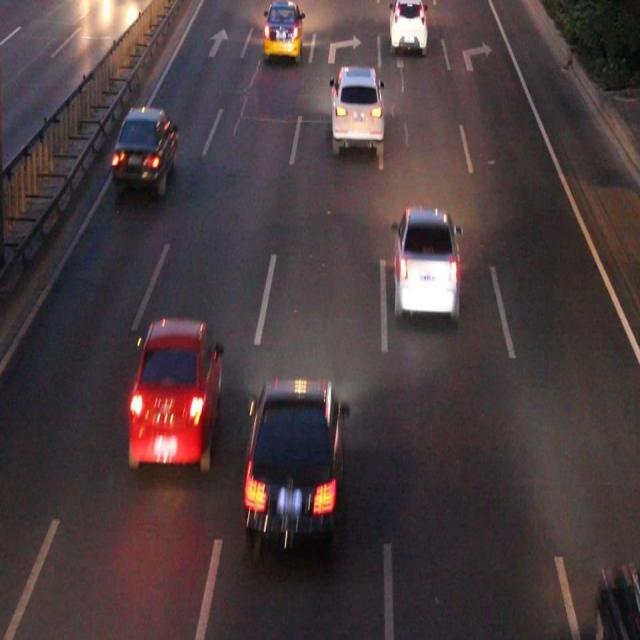car: (248, 382, 342, 551), (131, 321, 220, 462), (396, 208, 456, 316), (114, 109, 179, 183), (331, 68, 382, 150), (597, 564, 640, 640), (263, 1, 301, 57), (388, 2, 426, 48)
